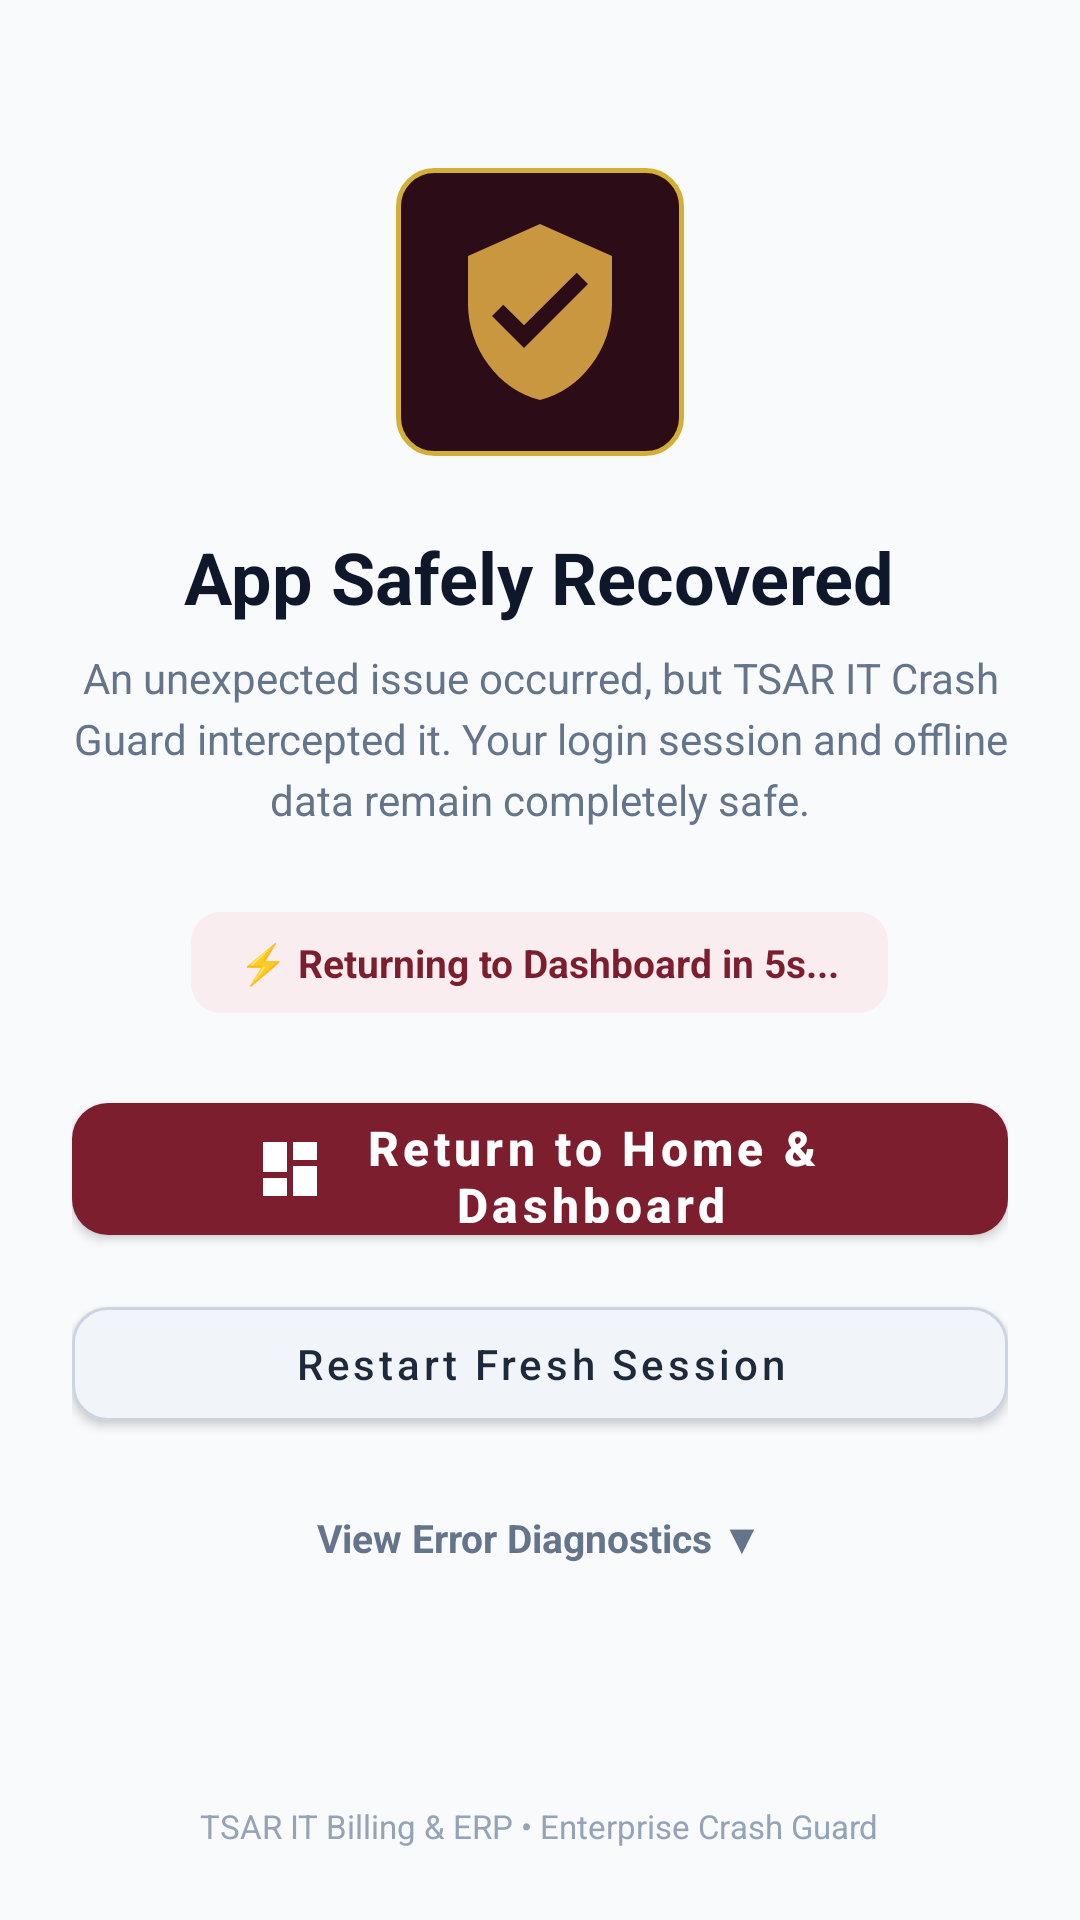

Screen size 1080 x 1920. Icon name, then its center in pixels as point (x, y):
Recovery Shield: point (540, 312)
